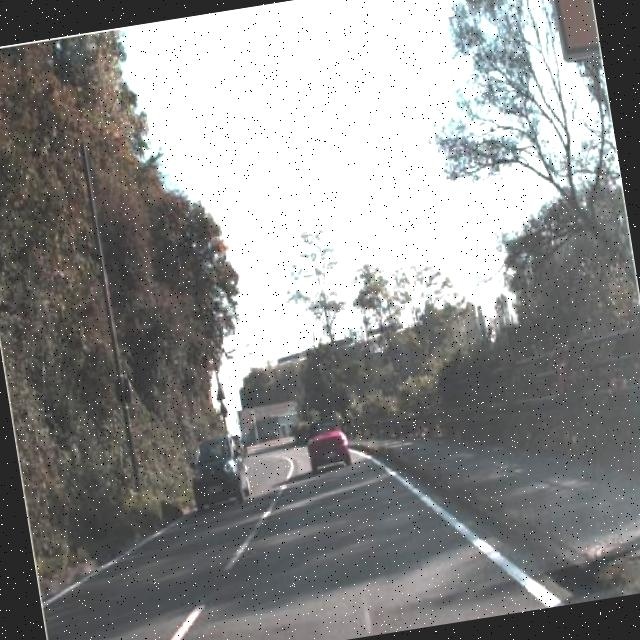Ograniczenie predkosci do 50: (390, 353, 406, 376)
